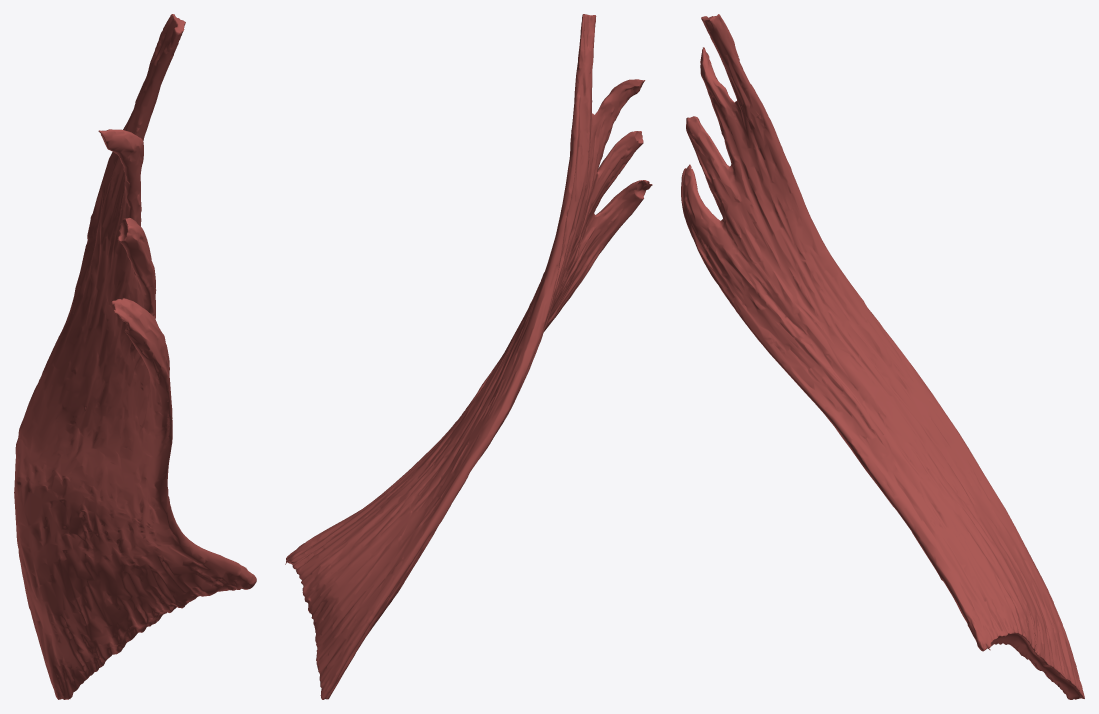
The model's file is FMA32541.glb.
3 views of the same model, side by side, from view 1: azimuth 30°, elevation 25°; view 2: azimuth 150°, elevation 25°; view 3: azimuth 270°, elevation 25° (orthographic). The views are drawn at different scales.
Visible parts, largest first — view 1: FMA32541; view 2: FMA32541; view 3: FMA32541.
Part boxes in pixels (x1,y1,x2,y2): FMA32541: (14, 14, 256, 699); FMA32541: (285, 14, 652, 699); FMA32541: (681, 14, 1084, 699).
Size of the model in its own units: 0.0595 by 0.1446 by 0.0831.
